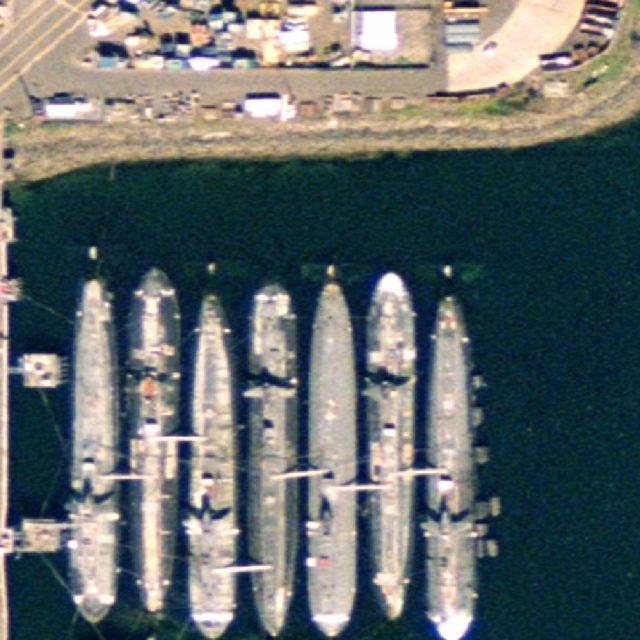Submarine: (125, 268, 180, 621), (424, 288, 479, 639), (243, 287, 297, 639), (302, 286, 356, 636), (184, 288, 237, 639), (363, 272, 416, 623), (67, 273, 120, 623)
